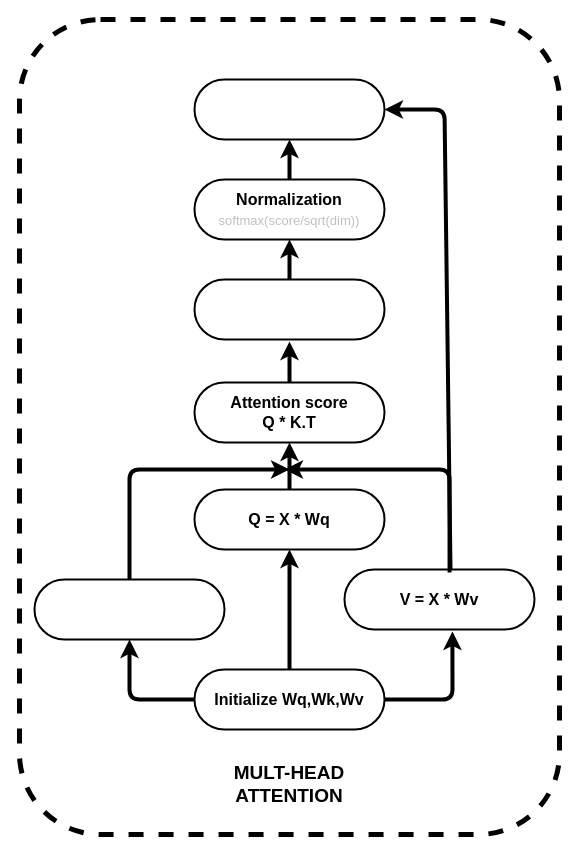
This 579x854 diagram has some shape labels left out. The box of each missing label's shape, as (x1, y1, x2, y2) in pixels:
Causal self Attention score Infinity mask: (193, 278, 385, 340)
Context Vector att wt * V: (193, 78, 385, 140)
K = X * Wk: (33, 578, 225, 640)
